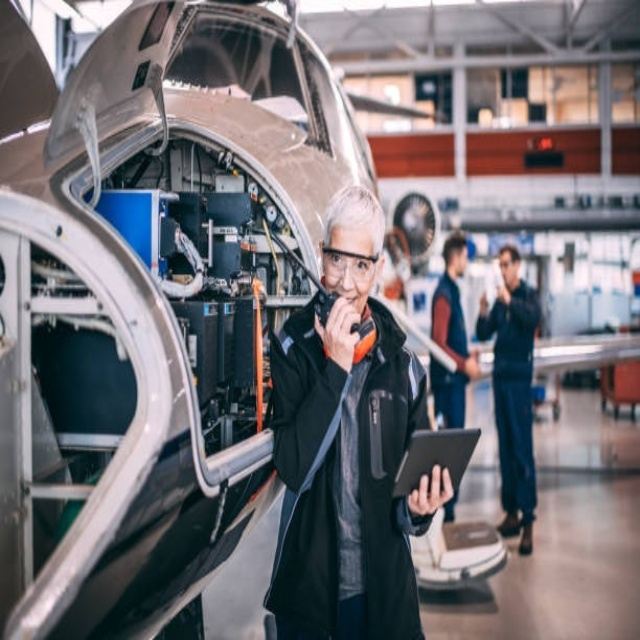Gafas: (318, 237, 383, 287)
Sin_guantes: (317, 293, 363, 368), (407, 465, 455, 518)
